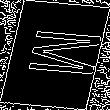M_E: (8, 29, 102, 81)
